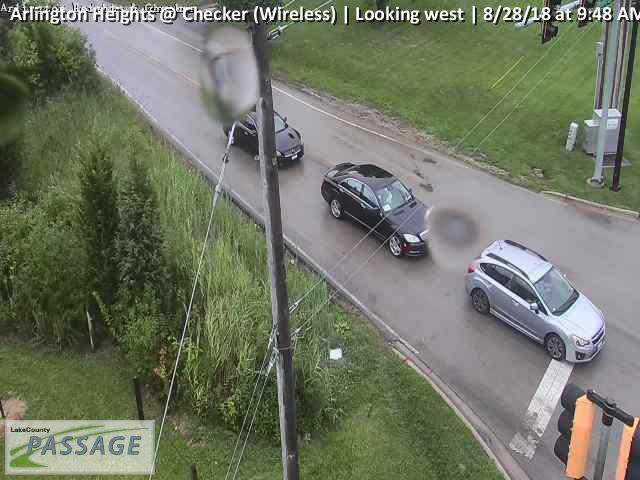SUV: (464, 239, 607, 363)
Sedan: (320, 161, 438, 258), (221, 101, 304, 168)
